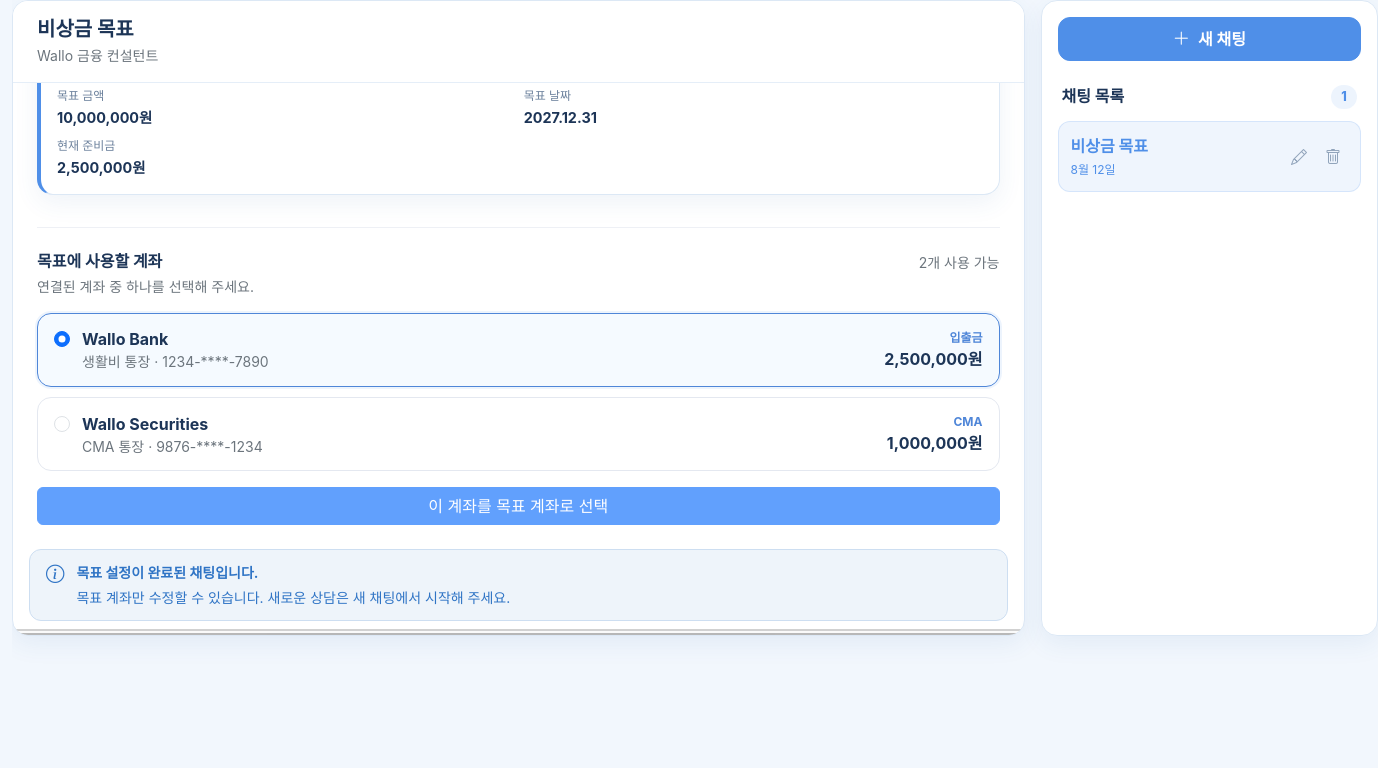
Test: ChatView › saves the account selected below the confirmed goal card
The image size is (1378, 768).
(page scrolled)
Click the radio button labelled "Wallo Securities CMA 통장 · 9876-****-1234 CMA 1,000,000원" at (62, 424), box [54, 416, 70, 432]
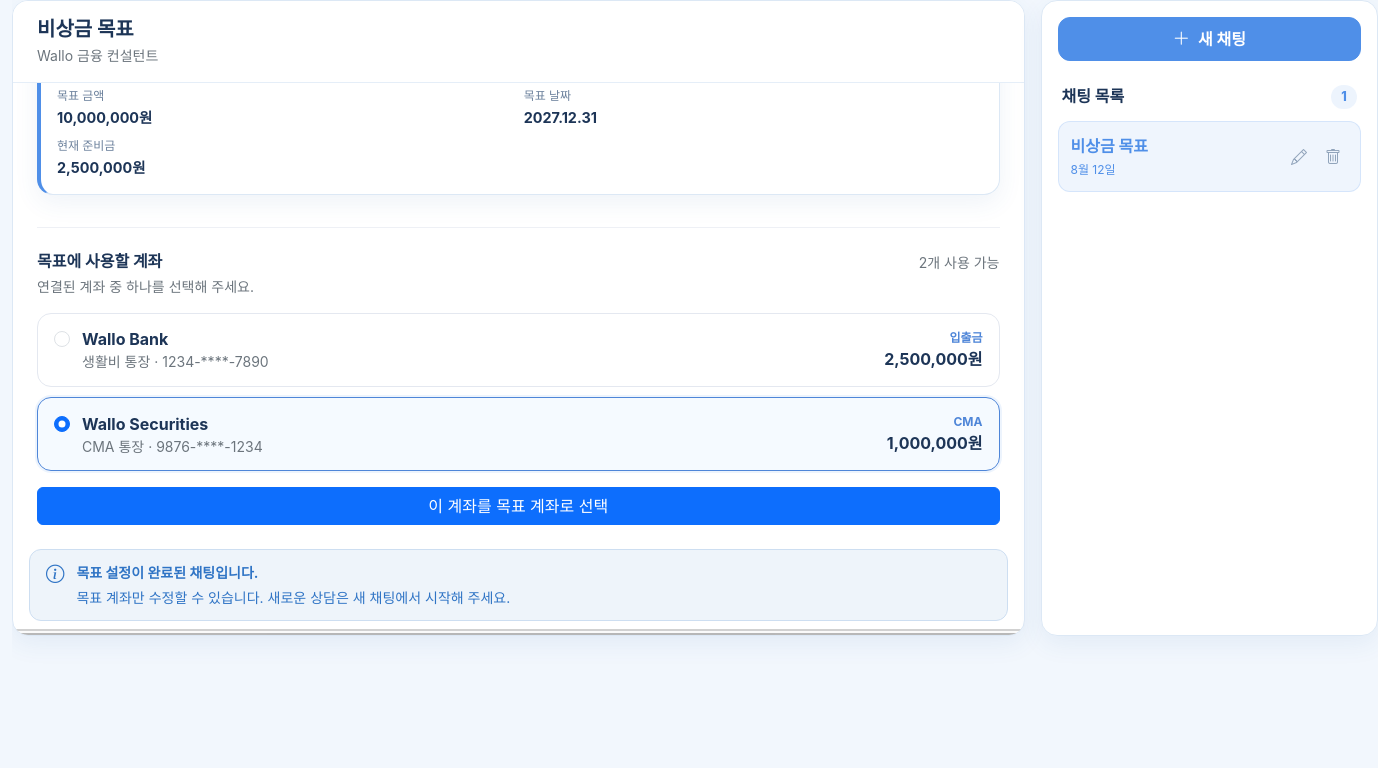
Click the button "이 계좌를 목표 계좌로 선택" at (518, 506), box [37, 487, 1000, 525]
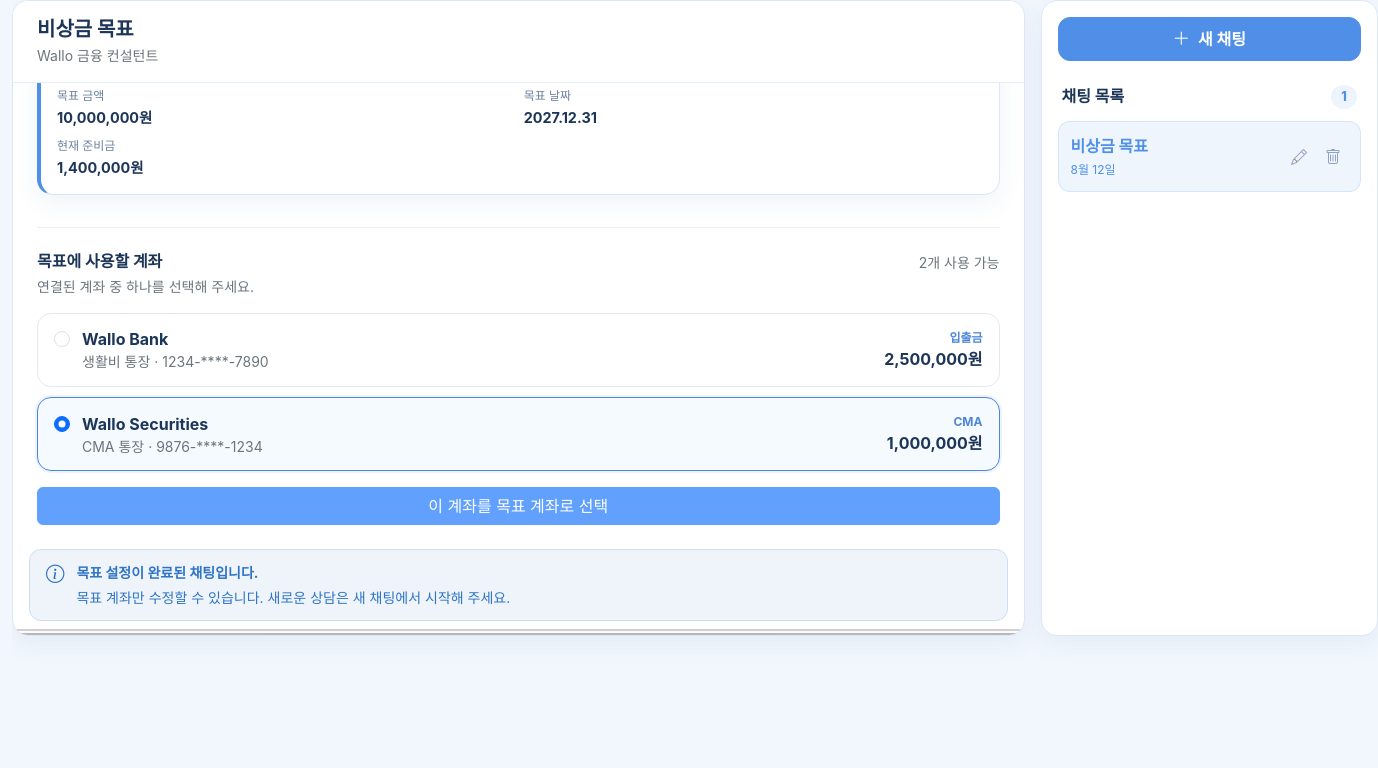
Check: the radio button labelled "Wallo Securities CMA 통장 · 9876-****-1234 CMA 1,000,000원" is checked, box [54, 416, 70, 432]
Check: the text "1,400,000" is shown, box [57, 159, 144, 176]
